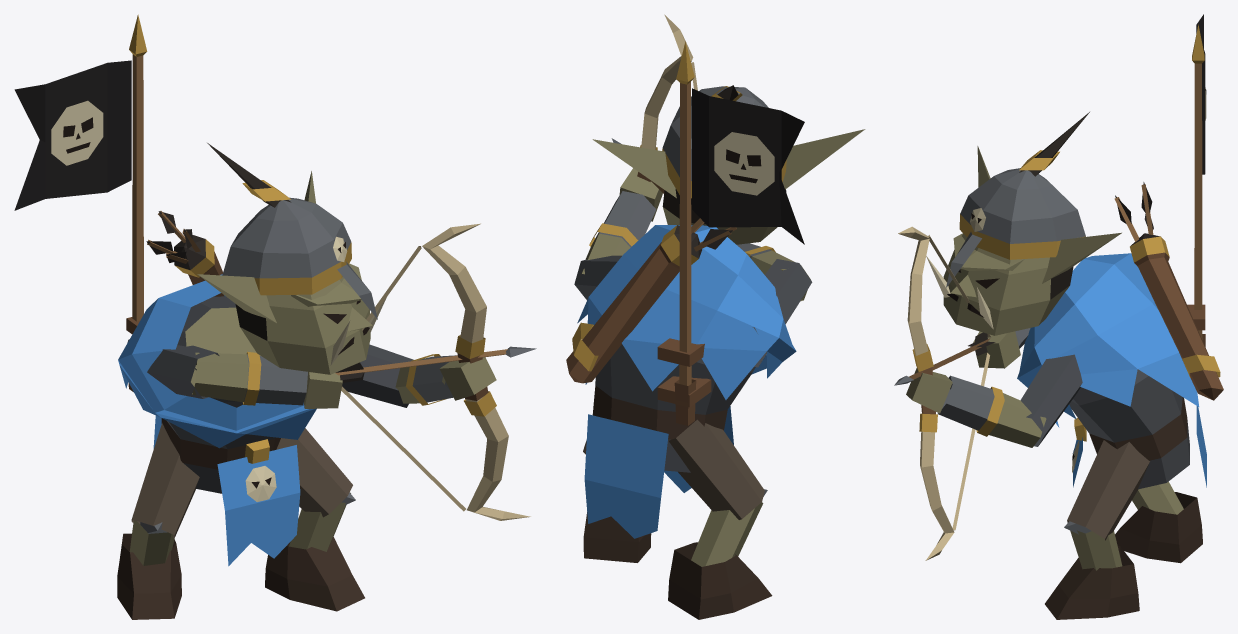
The model's file is gorbag-3.glb.
3 views of the same model, side by side, from view 1: azimuth 30°, elevation 25°; view 2: azimuth 150°, elevation 25°; view 3: azimuth 270°, elevation 25° (orthographic). The views are drawn at different scales.
Visible parts, largest first — view 1: gorbag-3; view 2: gorbag-3; view 3: gorbag-3.
Part boxes in pixels (left/top/right/bottom): gorbag-3: left=14, top=14, right=536, bottom=619; gorbag-3: left=566, top=14, right=865, bottom=619; gorbag-3: left=894, top=14, right=1223, bottom=619.
Bounding box in the file's own units: 1.16 × 1.7 × 0.9644.
